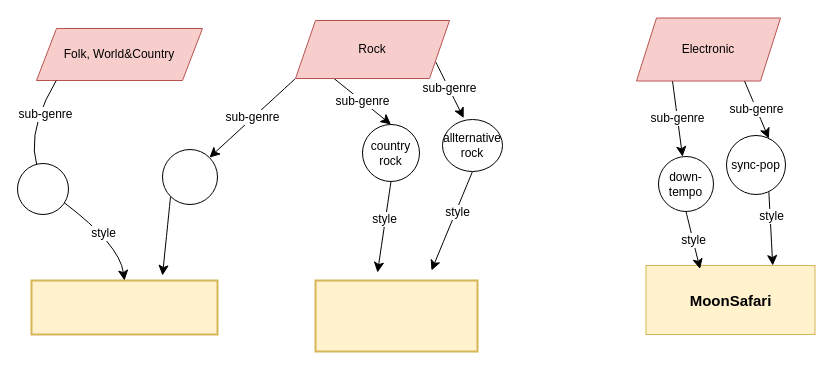
The diagram is 833 pixels wide and 369 high, and some of its shapes have lost their labels. The shapes that lost their labels are listed below. From the top down, each one's box as (x1, y1, x2, y2) in pixels, then its label:
(16, 162, 68, 214): African
(162, 148, 218, 204): psychedelic rock
(30, 279, 218, 335): Funeral for Justice
(314, 279, 478, 352): Yankee Hotel Foxtrot
